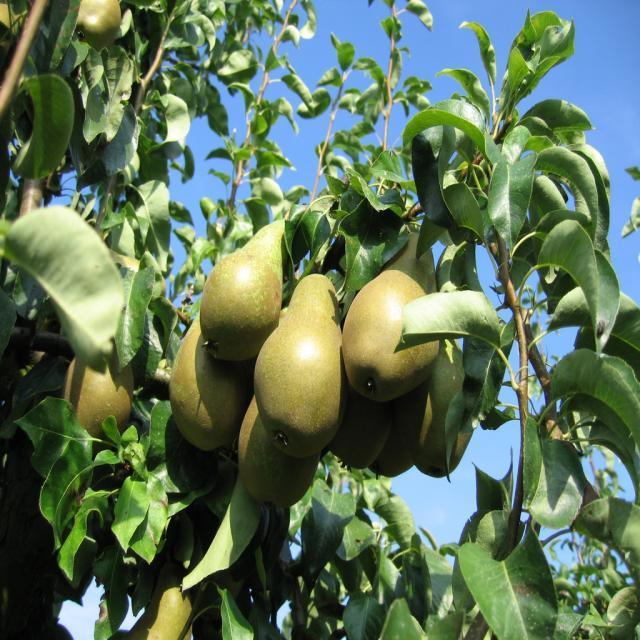Pear: (168, 217, 484, 515), (62, 338, 139, 463), (123, 576, 193, 640), (76, 0, 122, 41), (0, 0, 20, 36)
